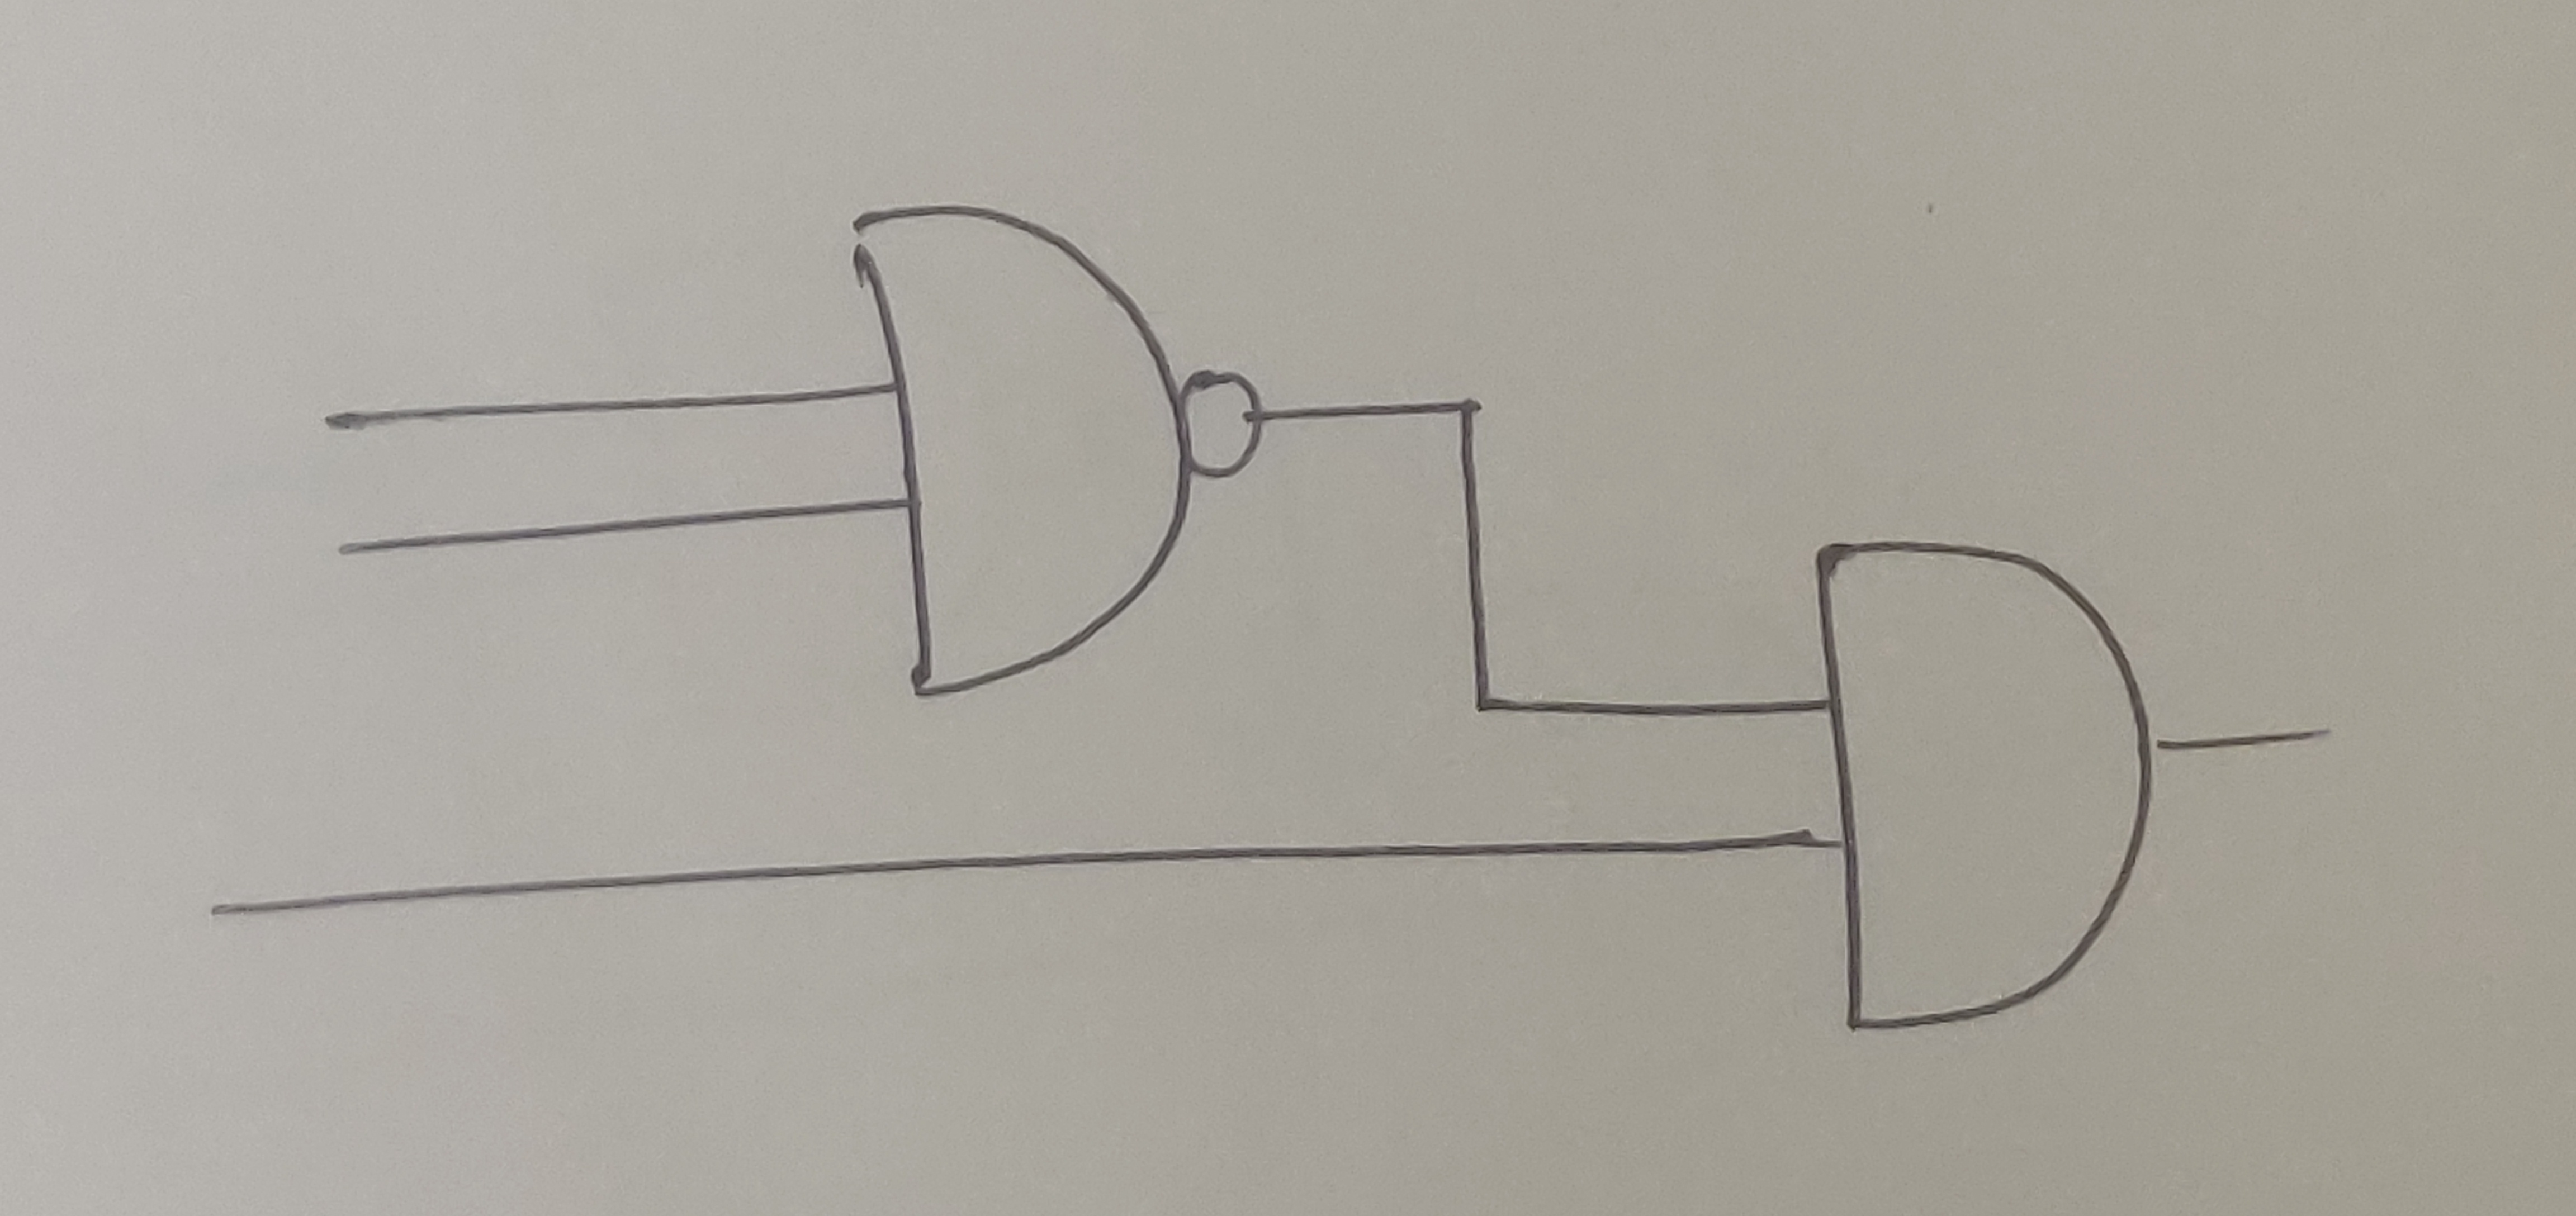and: (831, 204, 1193, 700), (1817, 536, 2159, 1032)
not: (1183, 378, 1268, 483)
